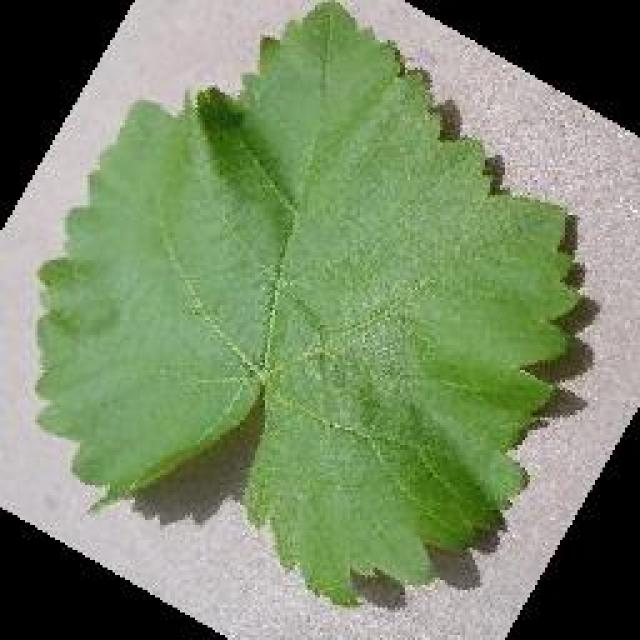Grape___healthy: (38, 0, 575, 602)
